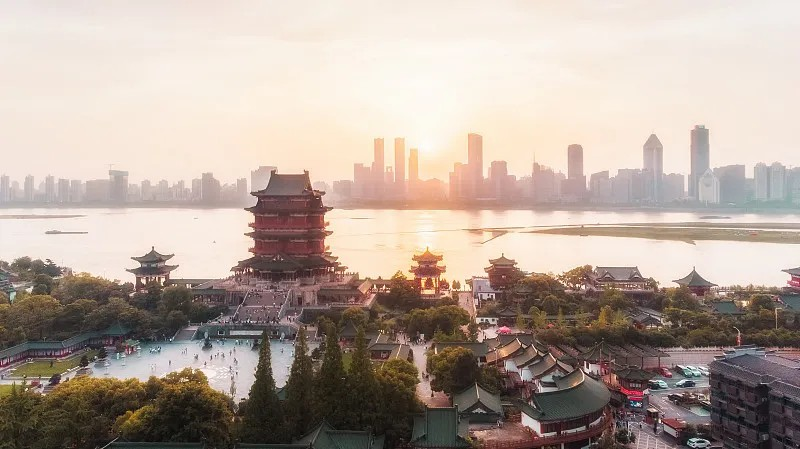Teng: (230, 169, 348, 279)
